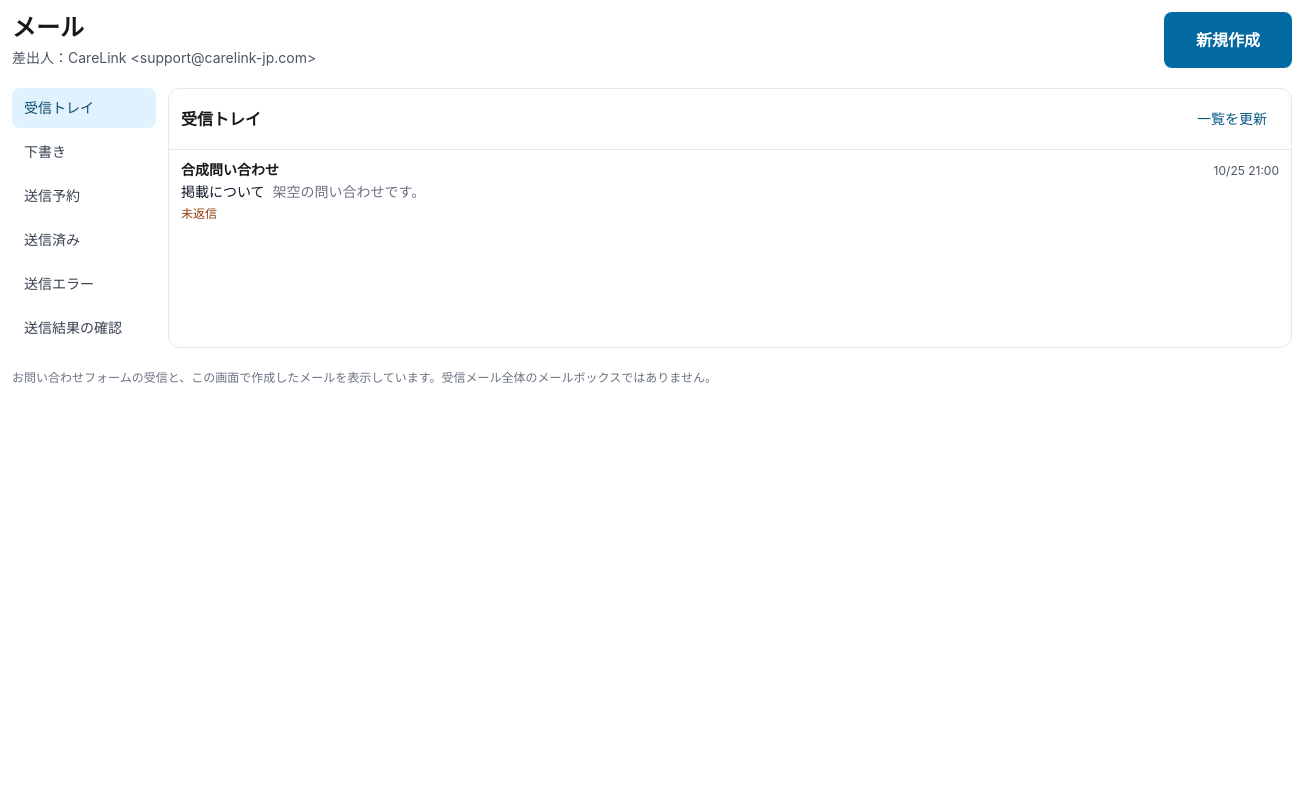
Test: reply recipient is the original stored contact and cannot be edited
The width and height of the screenshot is (1304, 812).
Step 1. Click the button "合成問い合わせ" → (230, 170), box 169,150 -> 1291,232
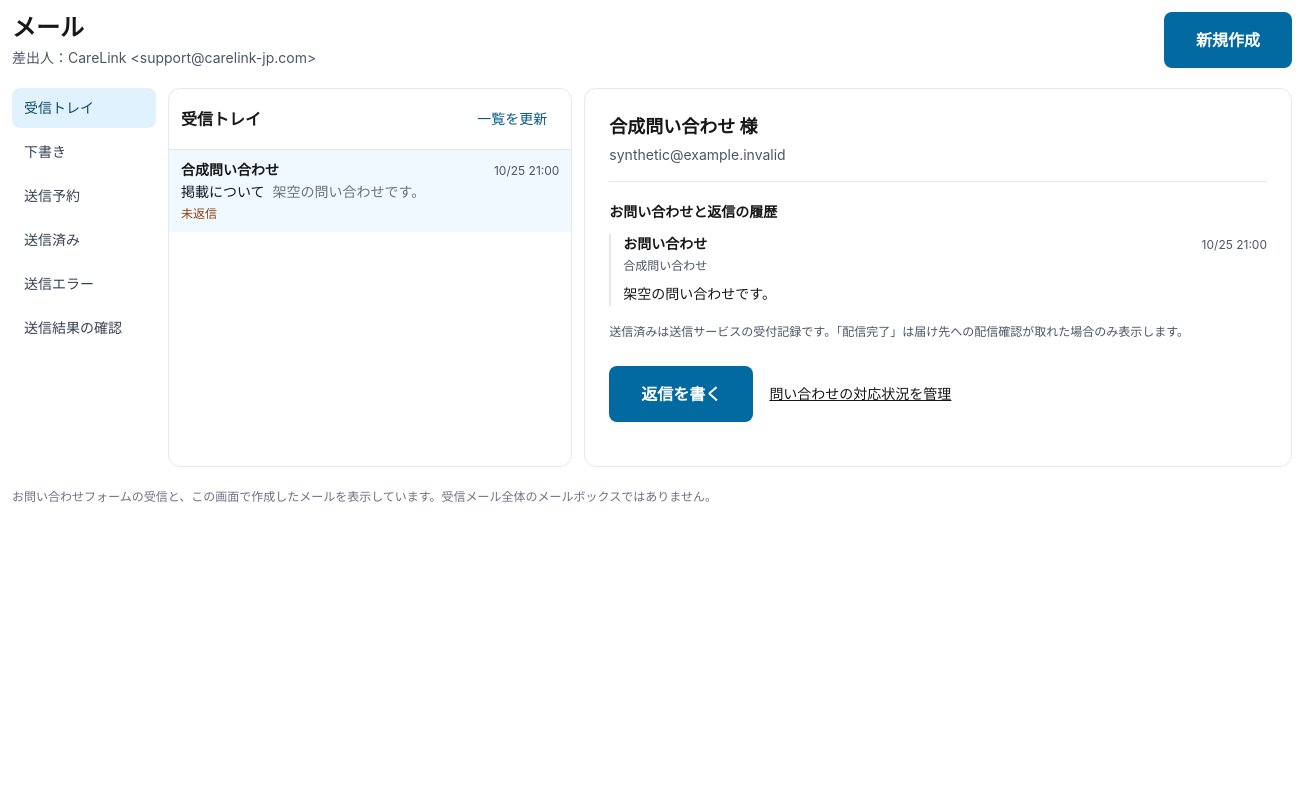
Check: the button "返信を書く" is enabled
Step 2. Click the button "返信を書く" → (681, 394), box 609,366 -> 753,422
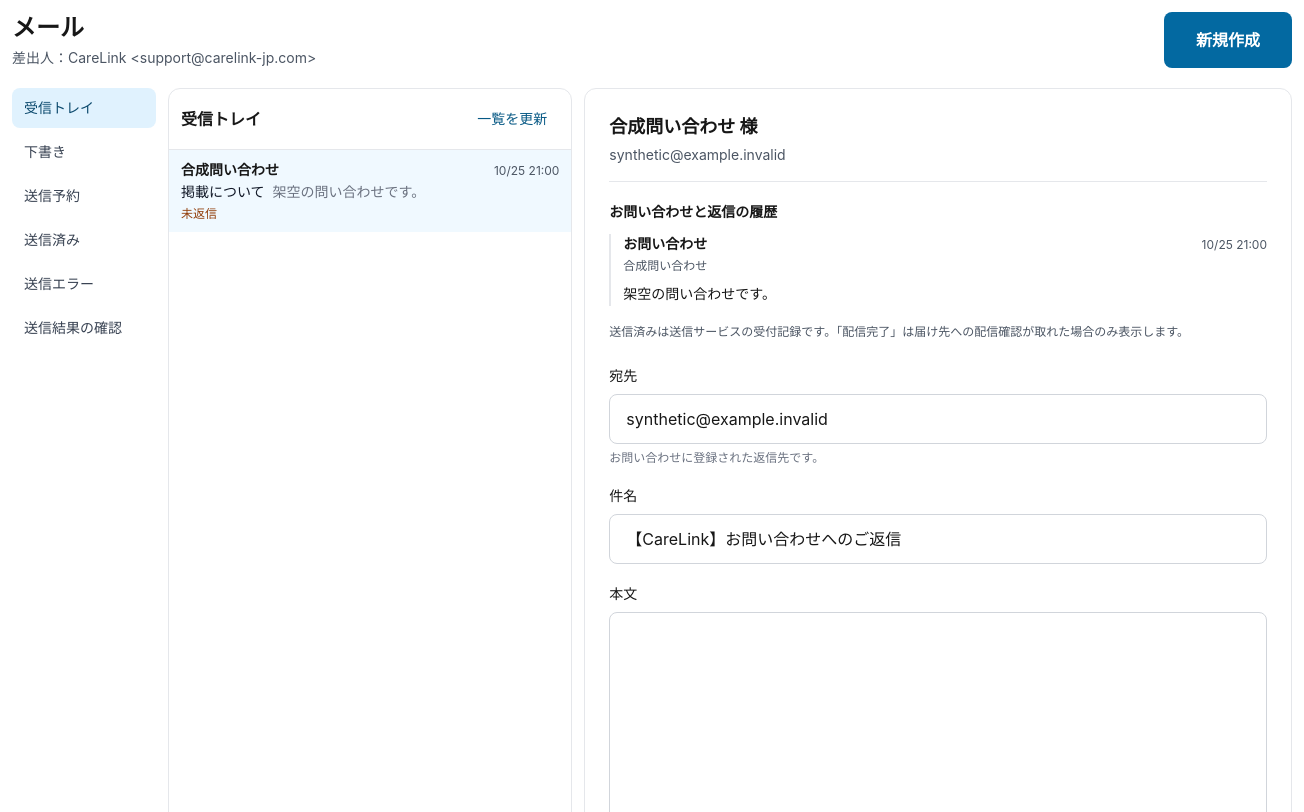
Check: the field labelled "宛先" holds "synthetic@example.invalid", box 609,394 -> 1267,444
